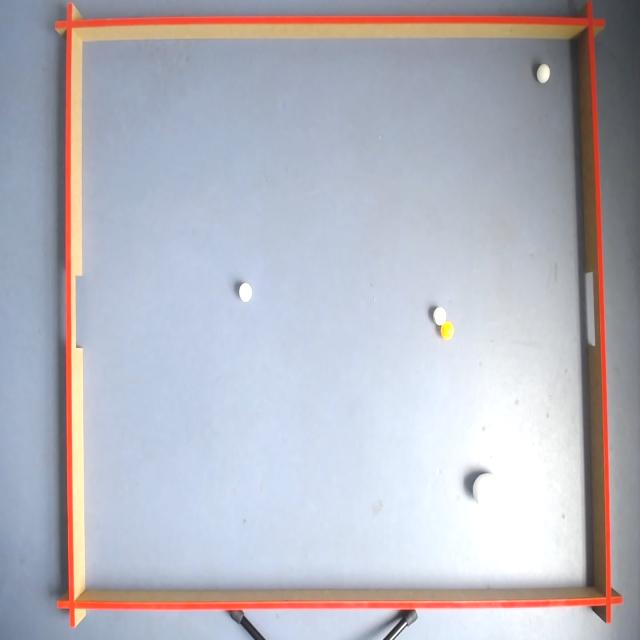corner: (591, 578, 624, 626), (56, 582, 88, 629), (575, 0, 606, 46), (55, 2, 84, 48)
